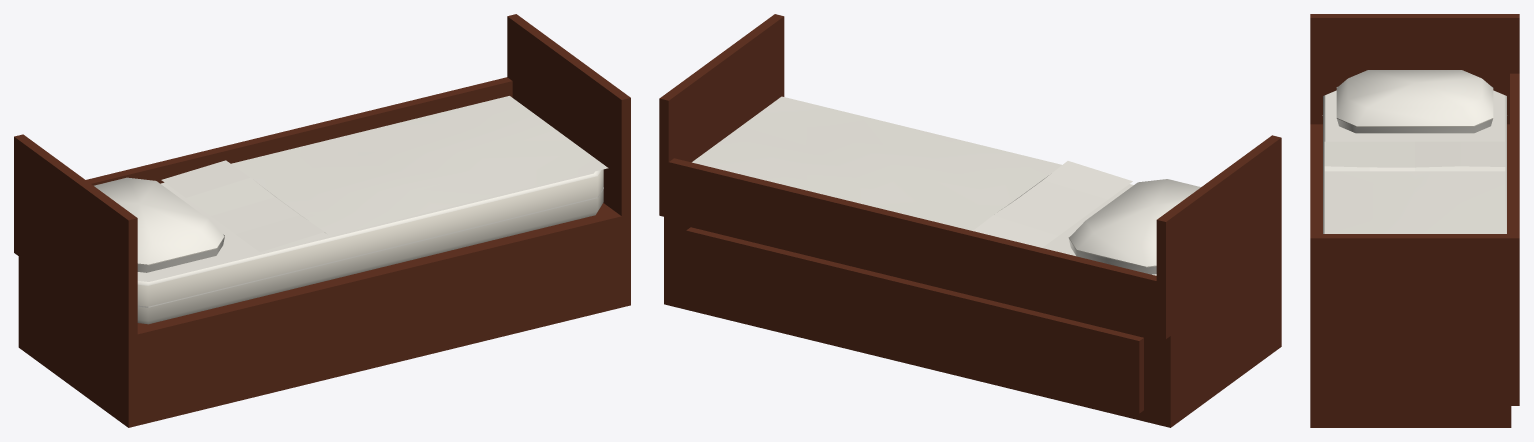
File: parametric-berth-1st.glb
3 renders of one model, left to right at view 1: azimuth 30°, elevation 25°; view 2: azimuth 150°, elevation 25°; view 3: azimuth 270°, elevation 25°, orthographic. The views are drawn at different scales.
Parts seen in each view (by area): view 1: parametric-berth-1st; view 2: parametric-berth-1st; view 3: parametric-berth-1st.
Part boxes in pixels (x1,y1,x2,y2): parametric-berth-1st: [14, 14, 630, 427]; parametric-berth-1st: [659, 14, 1281, 427]; parametric-berth-1st: [1310, 14, 1519, 427].
Size of the model in its own units: 1.9 by 0.75 by 0.75.
